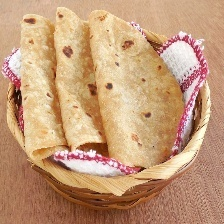roti: (15, 4, 182, 169)
